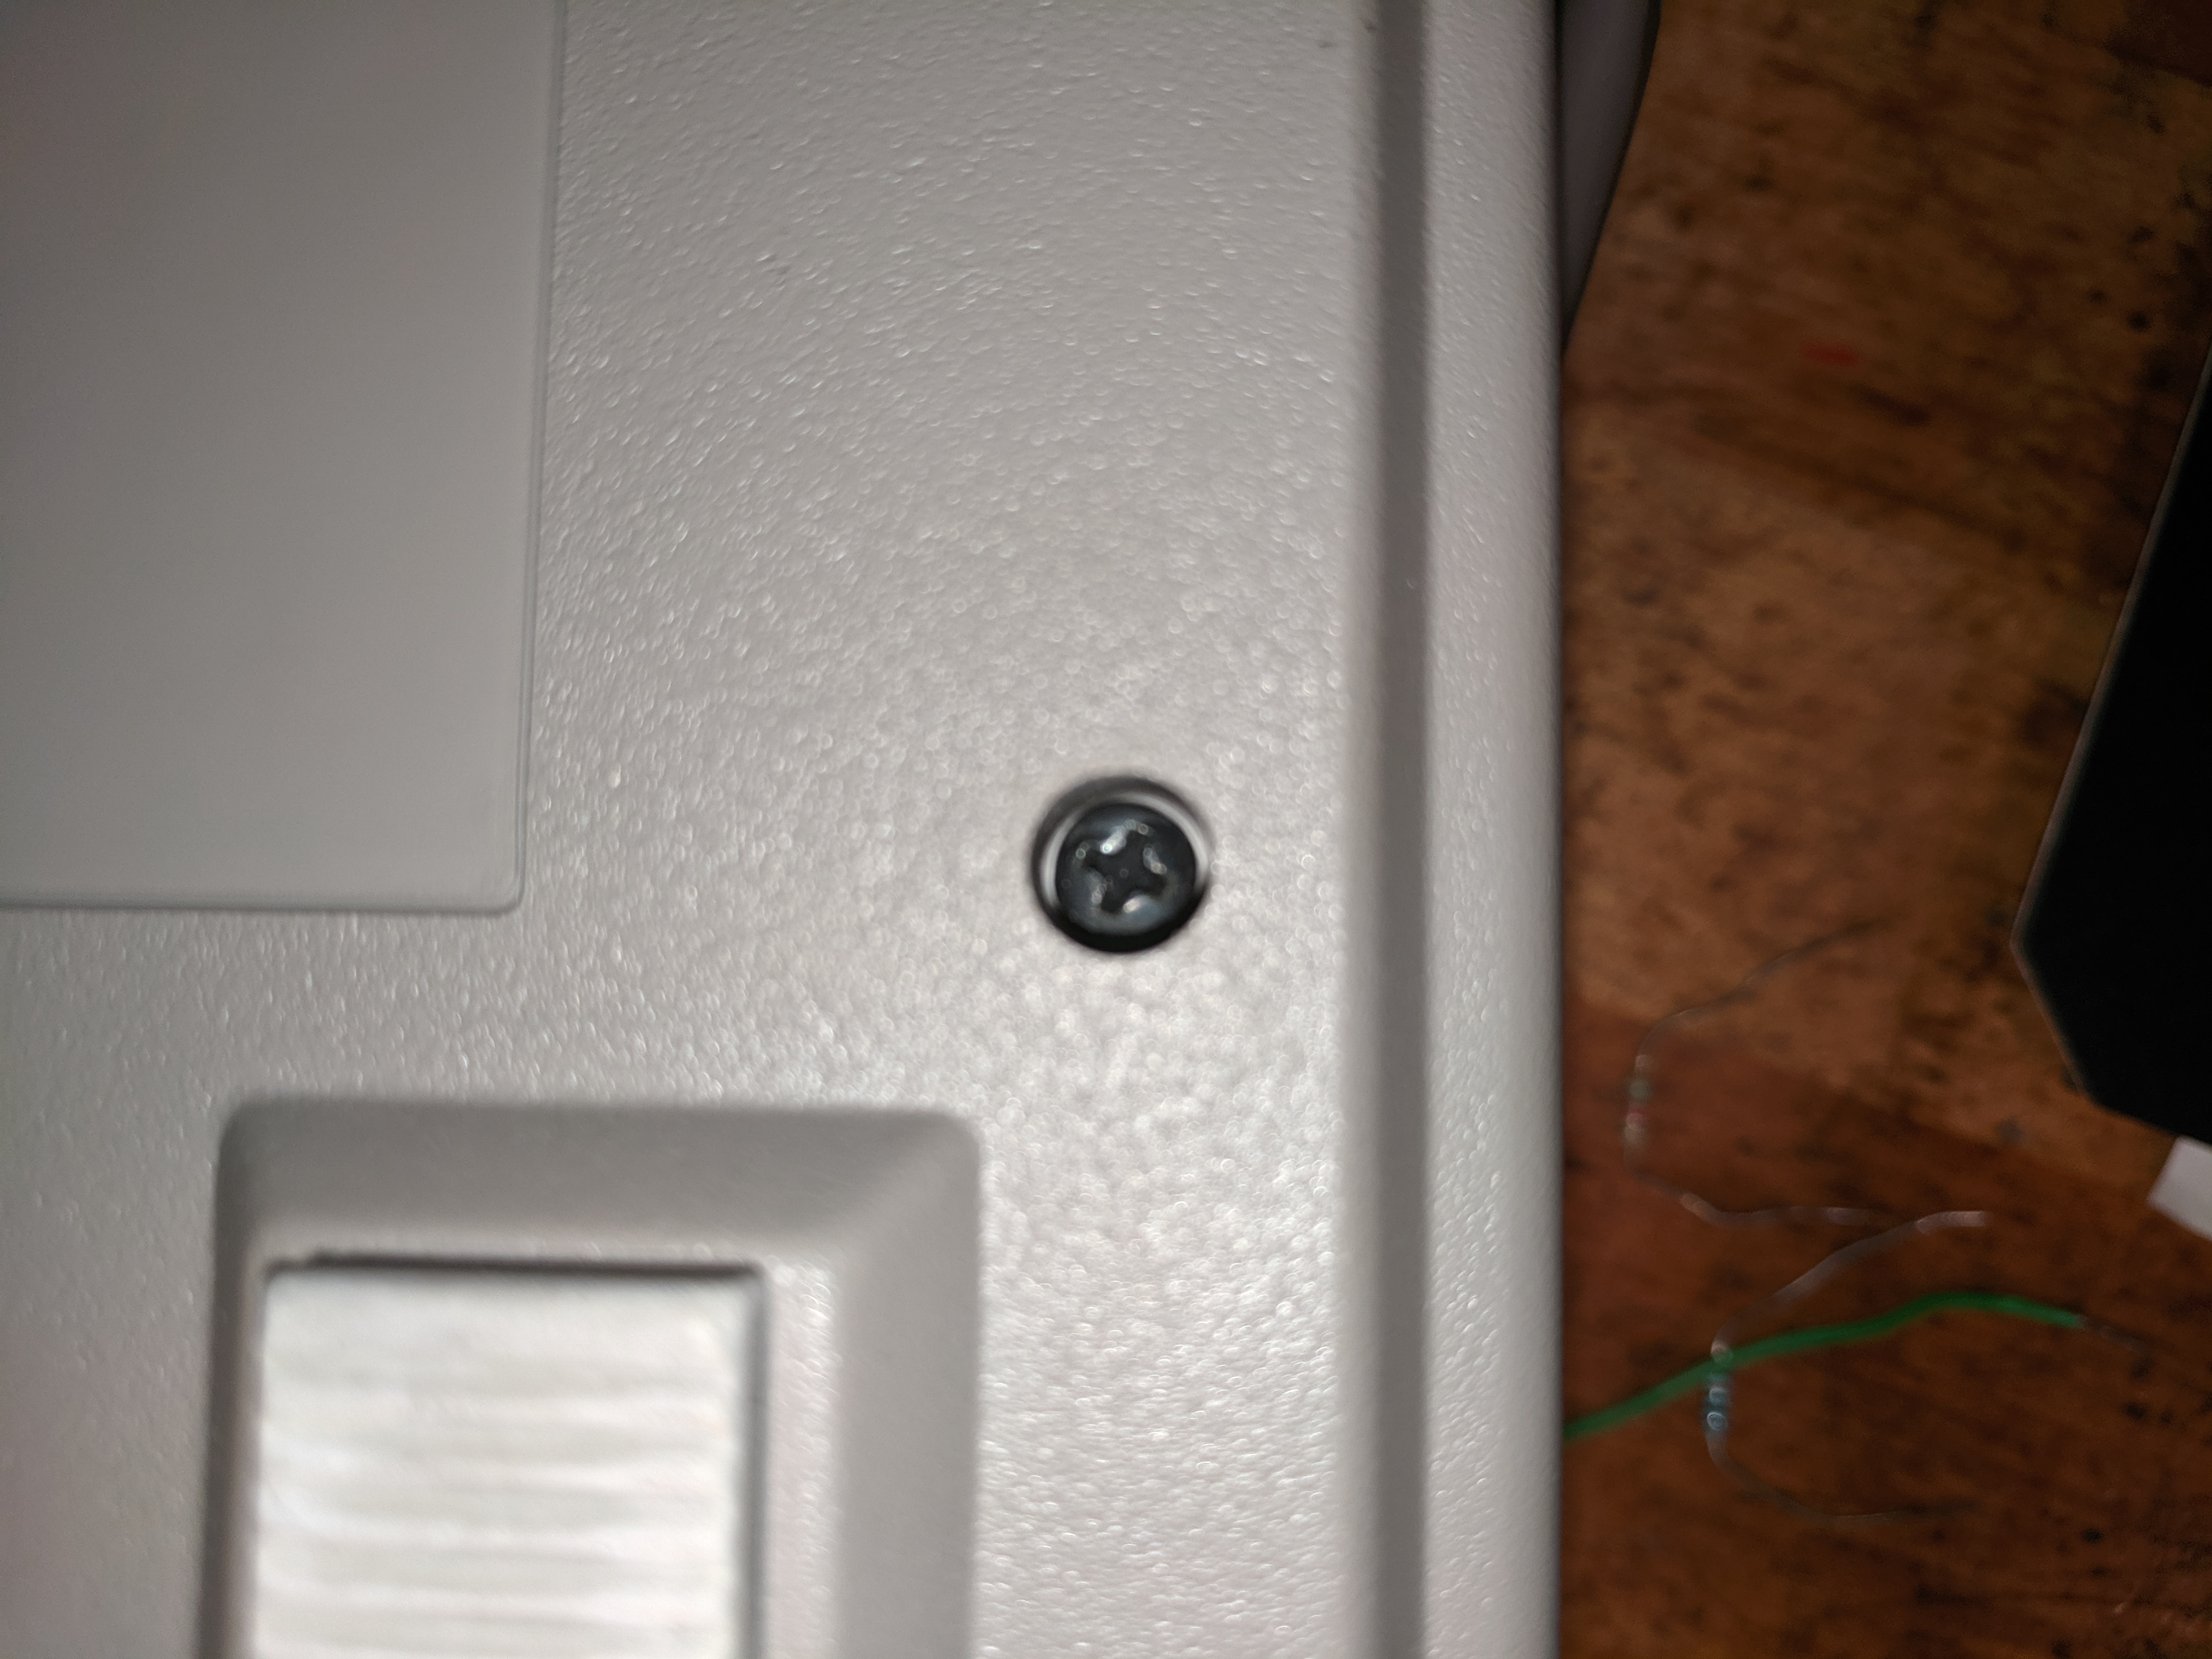cross_recessed_screw: (1897, 1281, 1973, 1370), (153, 1246, 233, 1323)
